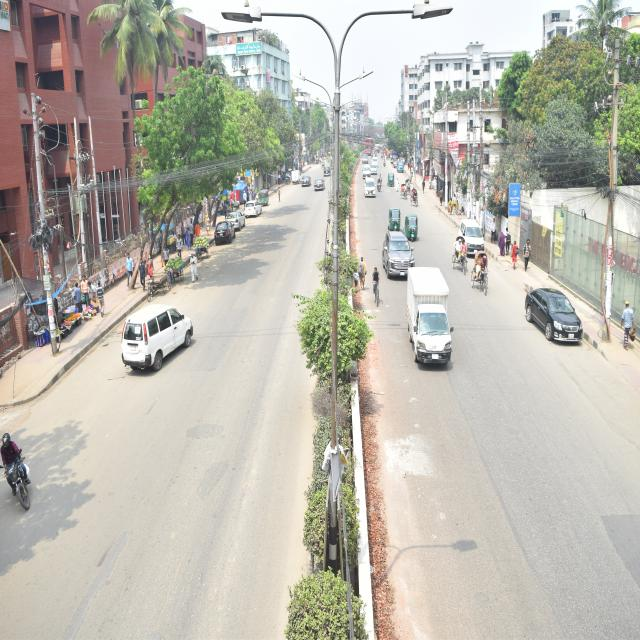car: (100, 300, 218, 387), (521, 248, 594, 387), (375, 212, 420, 294), (454, 207, 496, 266), (208, 214, 238, 268), (218, 196, 251, 242), (245, 190, 271, 233), (312, 175, 330, 206), (360, 174, 378, 203), (356, 162, 376, 179), (303, 164, 315, 191)
motorbike: (377, 168, 390, 202)
pickup-van: (400, 255, 463, 389), (282, 163, 302, 191)
